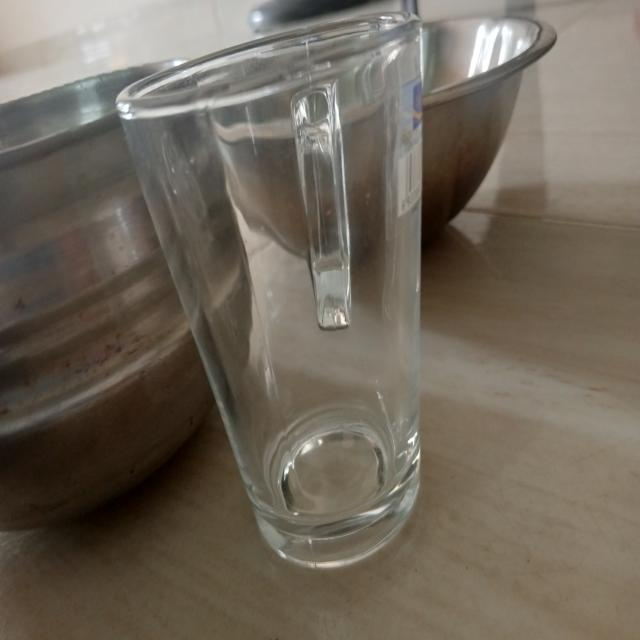glass-VX4N: (114, 10, 430, 570)
